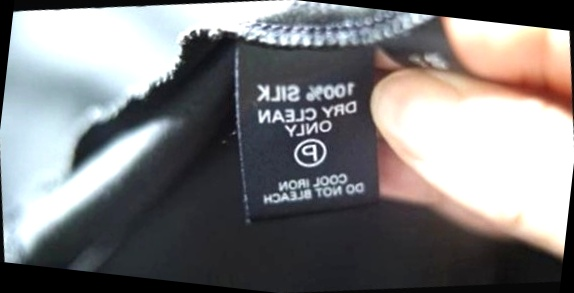dry_clean_any_solvent_except_trichloroethylene: (288, 133, 330, 172)
